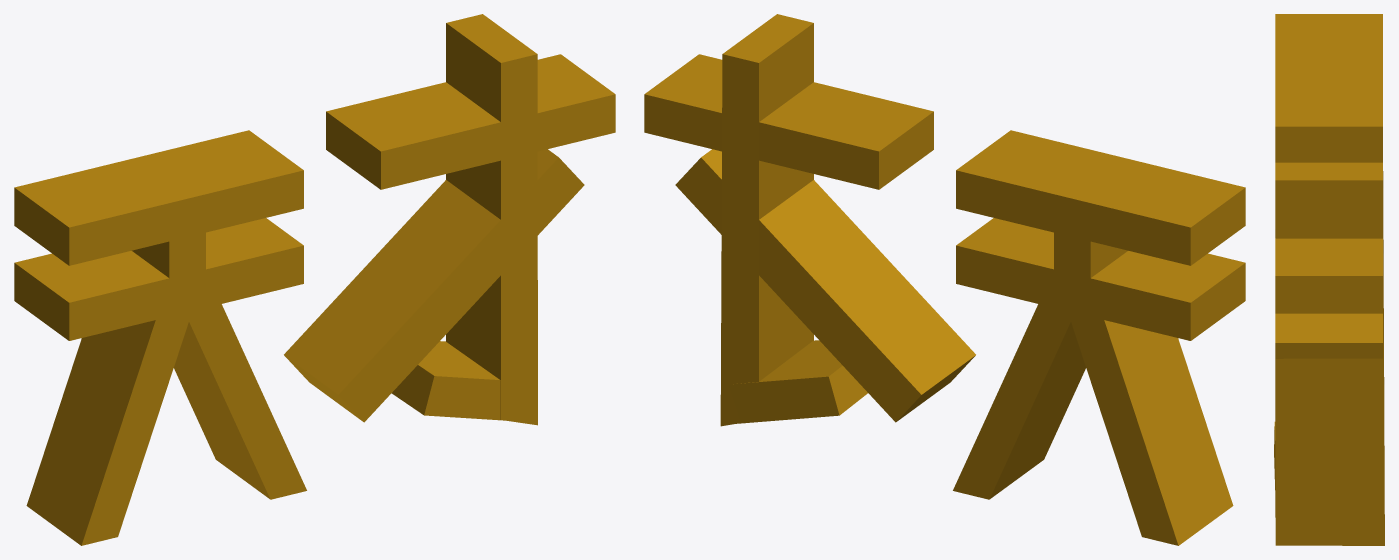
File: tensai.glb
3 renders of one model, left to right at view 1: azimuth 30°, elevation 25°; view 2: azimuth 150°, elevation 25°; view 3: azimuth 270°, elevation 25°, orthographic.
Visible parts, largest first — view 1: 立方体.008, 立方体, 立方体.004, 立方体.005, 立方体.006, 立方体.001, 立方体.003, 立方体.007, 立方体.002; view 2: 立方体.008, 立方体, 立方体.006, 立方体.004, 立方体.005, 立方体.001, 立方体.003, 立方体.007, 立方体.002; view 3: 立方体.006, 立方体, 立方体.005, 立方体.008.
Part boxes in pixels (left/top/right/bottom): 立方体.008: left=284, top=149, right=584, bottom=422; 立方体: left=14, top=130, right=303, bottom=265; 立方体.004: left=26, top=277, right=202, bottom=545; 立方体.005: left=326, top=54, right=615, bottom=189; 立方体.006: left=446, top=14, right=537, bottom=425; 立方体.001: left=14, top=218, right=303, bottom=340; 立方体.003: left=173, top=274, right=306, bottom=499; 立方体.007: left=391, top=341, right=503, bottom=420; 立方体.002: left=132, top=195, right=205, bottom=316; 立方体.008: left=675, top=149, right=975, bottom=422; 立方体: left=956, top=130, right=1245, bottom=265; 立方体.006: left=720, top=14, right=813, bottom=426; 立方体.004: left=1054, top=270, right=1233, bottom=545; 立方体.005: left=644, top=54, right=933, bottom=189; 立方体.001: left=956, top=218, right=1245, bottom=340; 立方体.003: left=953, top=270, right=1089, bottom=499; 立方体.007: left=728, top=340, right=867, bottom=423; 立方体.002: left=1054, top=195, right=1127, bottom=309; 立方体.006: left=1275, top=162, right=1384, bottom=545; 立方体: left=1275, top=14, right=1382, bottom=162; 立方体.005: left=1275, top=238, right=1382, bottom=313; 立方体.008: left=1275, top=313, right=1382, bottom=363.
Size of the model in its own units: 11.51 by 7.66 by 2.06.
